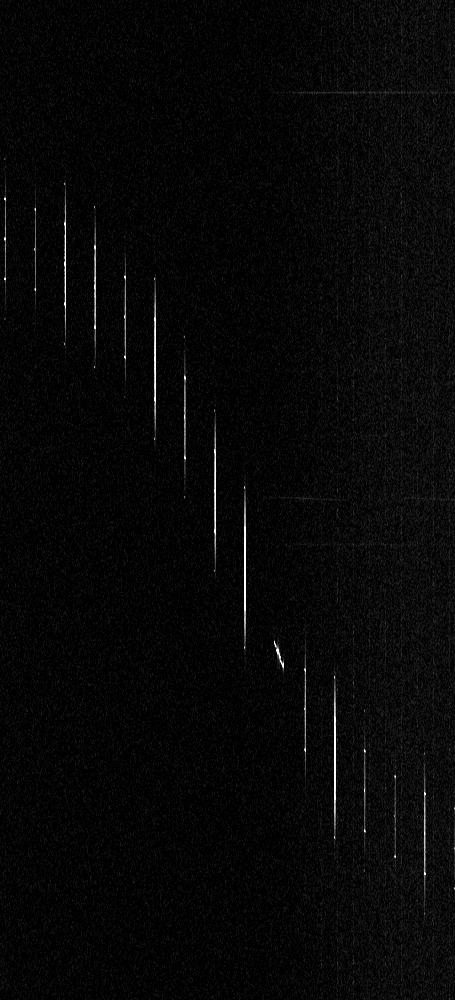signal: (0, 0, 454, 999)
